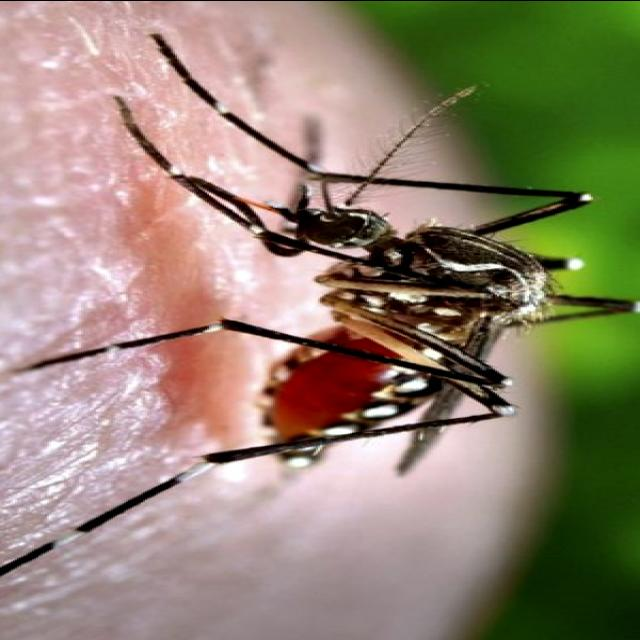Mosquito: (0, 88, 640, 534)
